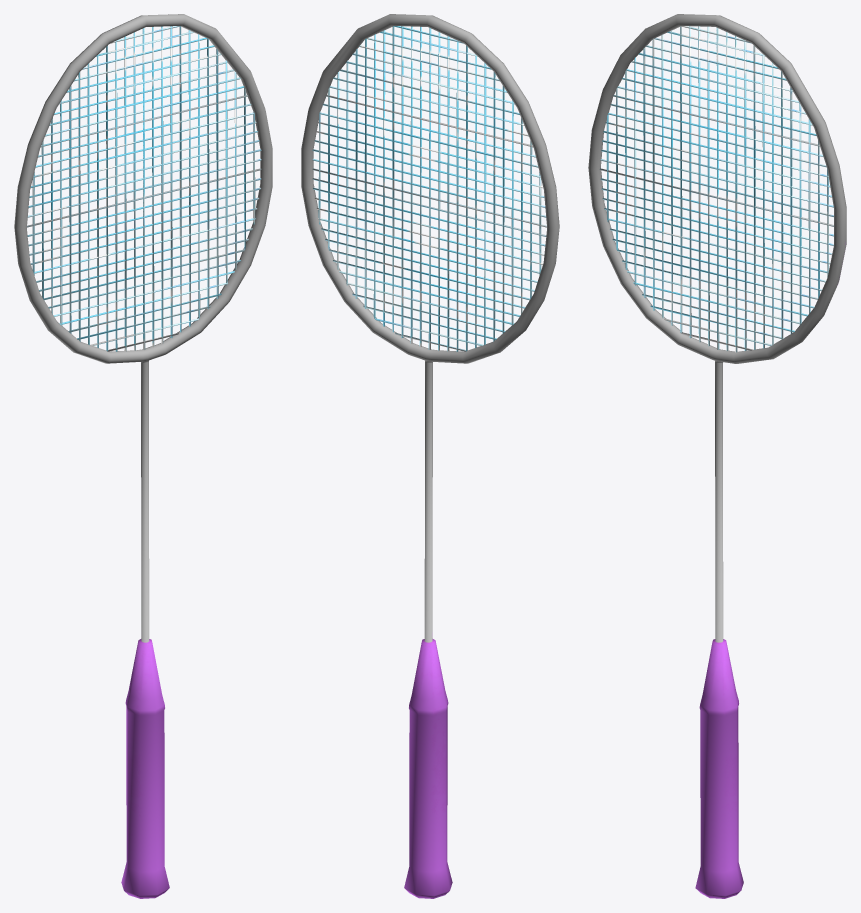
Rendered from Batmintan.fbx.
3 views of the same model, side by side, from view 1: azimuth 30°, elevation 25°; view 2: azimuth 150°, elevation 25°; view 3: azimuth 330°, elevation 25° (orthographic).
Parts seen in each view (by area): view 1: Batmintan; view 2: Batmintan; view 3: Batmintan.
Part boxes in pixels (x1,y1,x2,y2): Batmintan: (14,14,272,898); Batmintan: (301,14,559,898); Batmintan: (588,14,846,898).
Size of the model in its own units: 137 by 446 by 23.21.
1 material, 1 textured.
